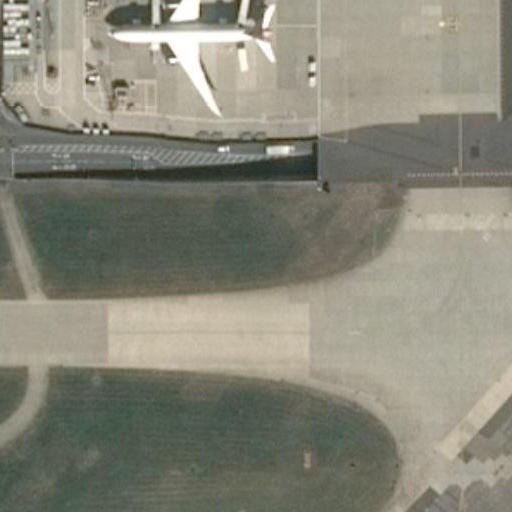Aircraft: (103, 0, 283, 116)
